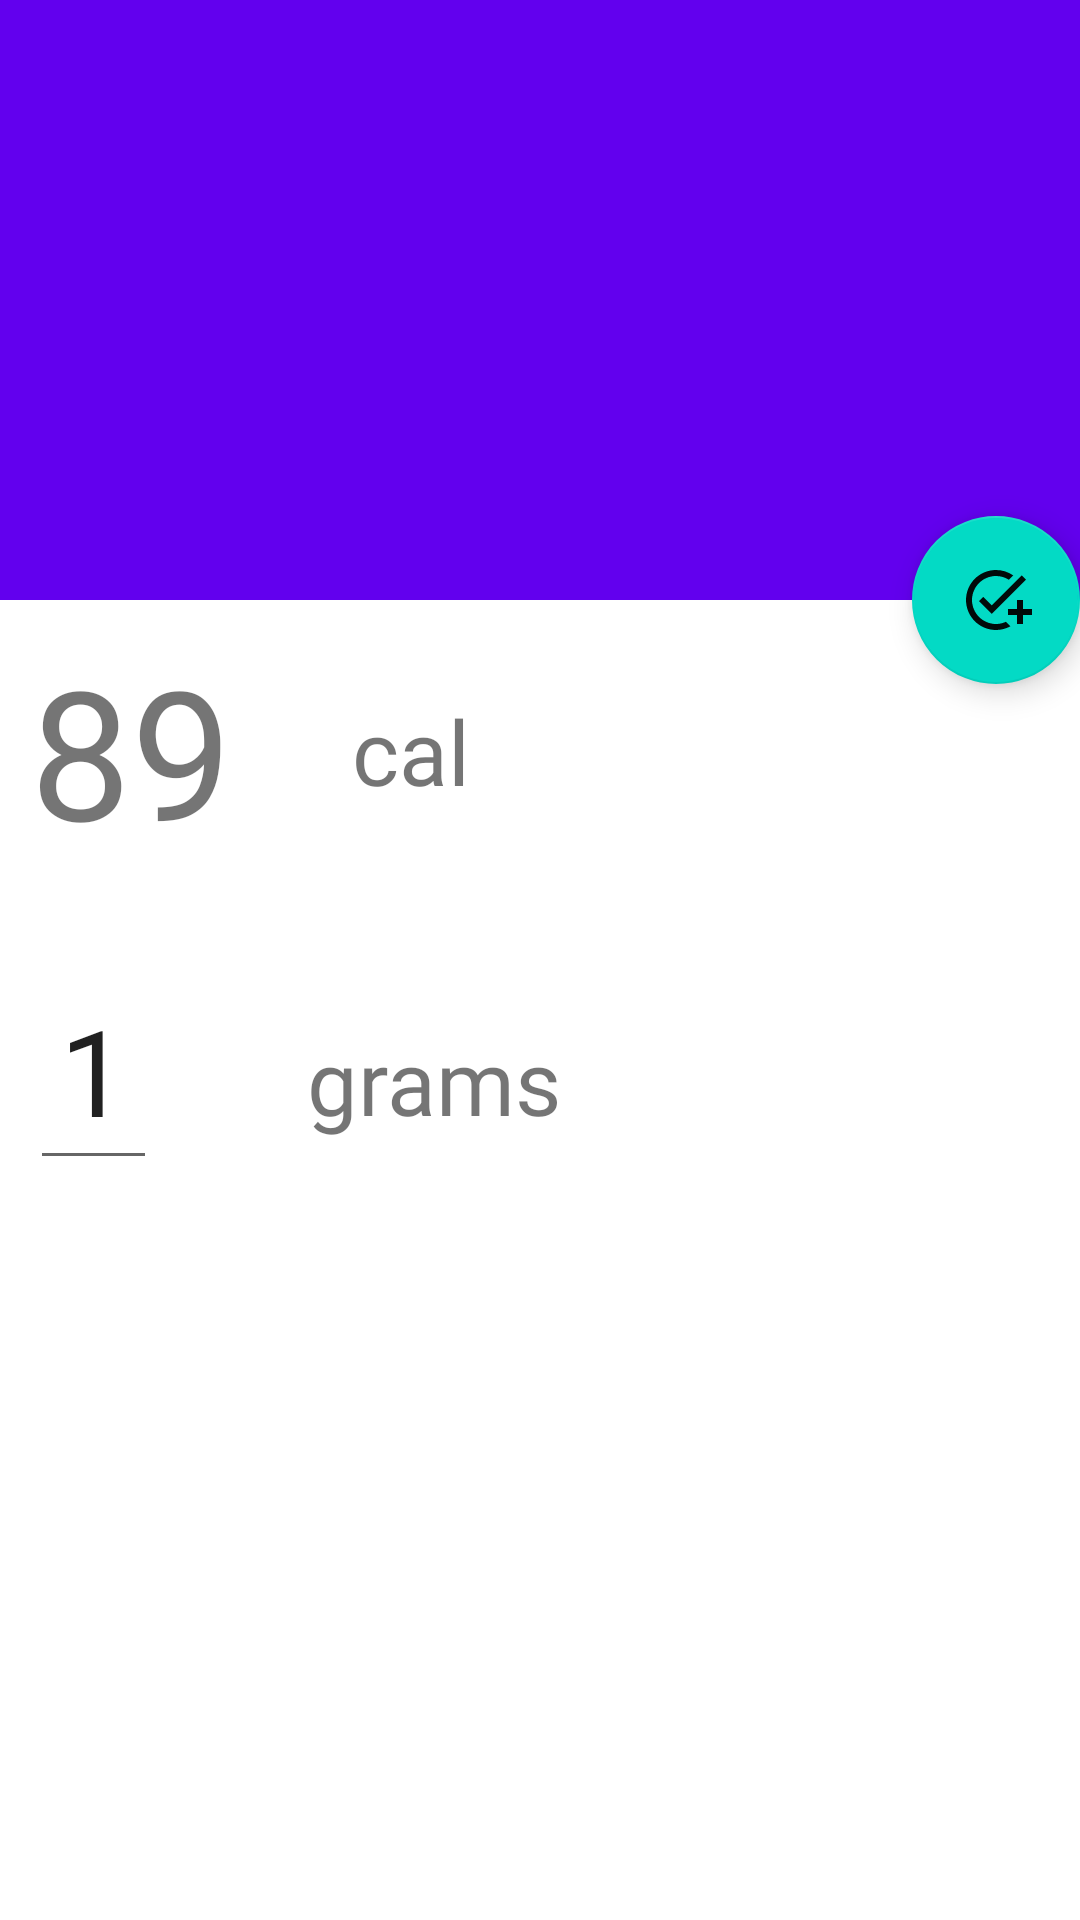

Screen size 1080 × 1920. Icon name, then its center in pixels as (x,y):
add task: (996,600)
